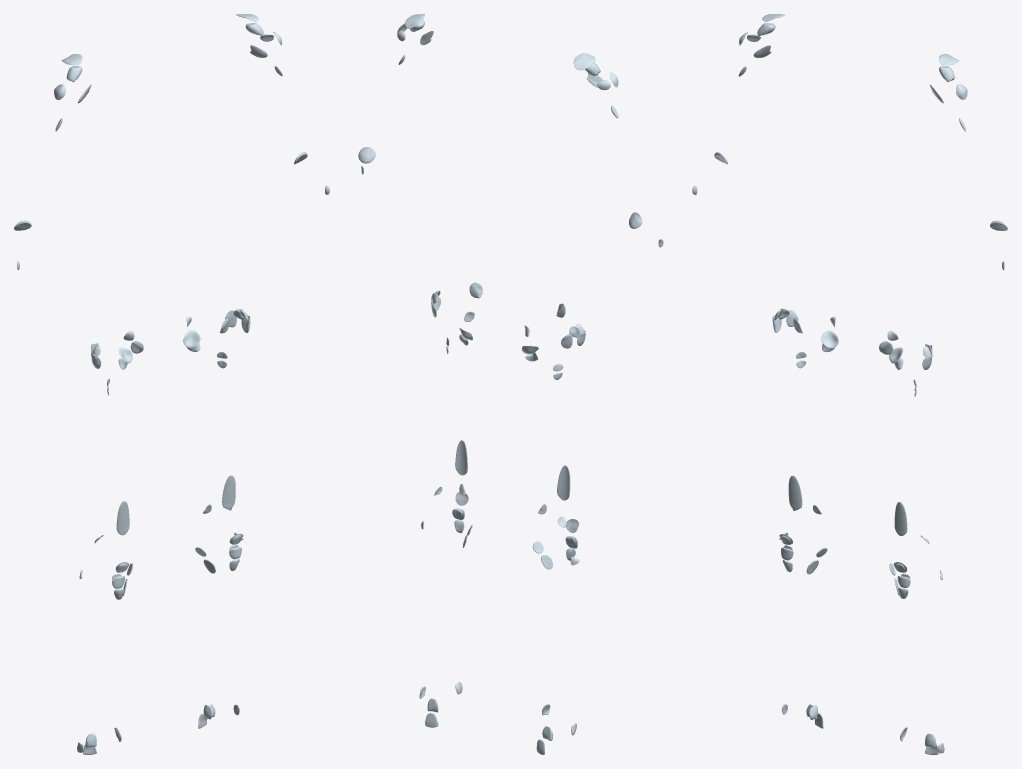
File: zanatomy-bursae.glb
3 renders of one model, left to right at view 1: azimuth 30°, elevation 25°; view 2: azimuth 150°, elevation 25°; view 3: azimuth 330°, elevation 25°, orthographic. The views are drawn at different scales.
Bounding box in the file's own units: 0.6145 × 1.35 × 0.1287.
